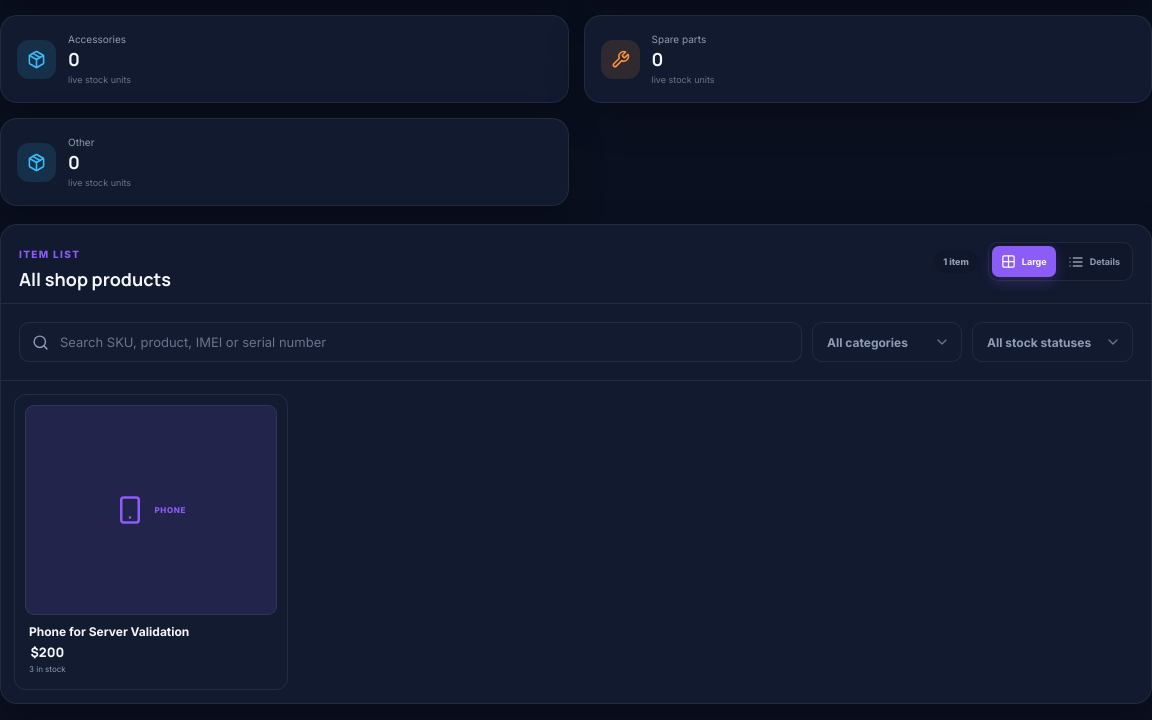
InventoryPage feature integration › displays error inside the dialog and preserves input when server rejects price update
(page scrolled)
Expected: the text "Phone for Server Validation" is shown, [29,624,189,639]
Click the button "Phone Phone for Server Validation $200 3 in stock" at (151, 542), box [14,394,288,690]
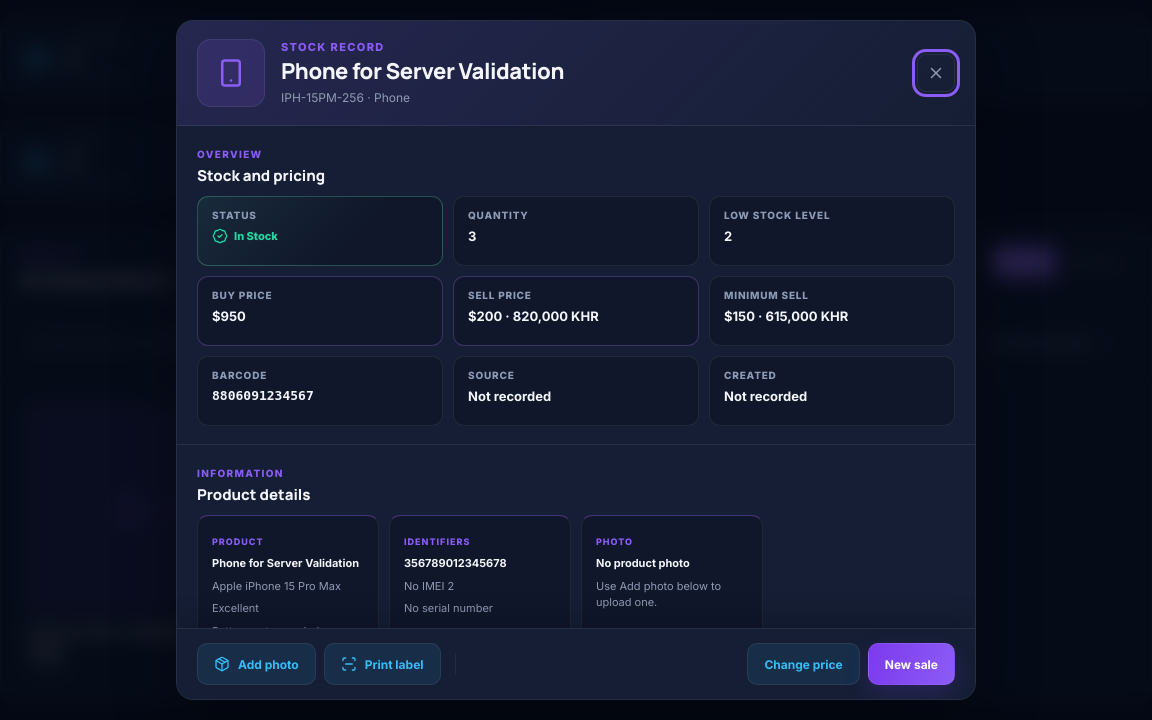
Click the button "Change price" at (804, 664), box [747,643,860,685]
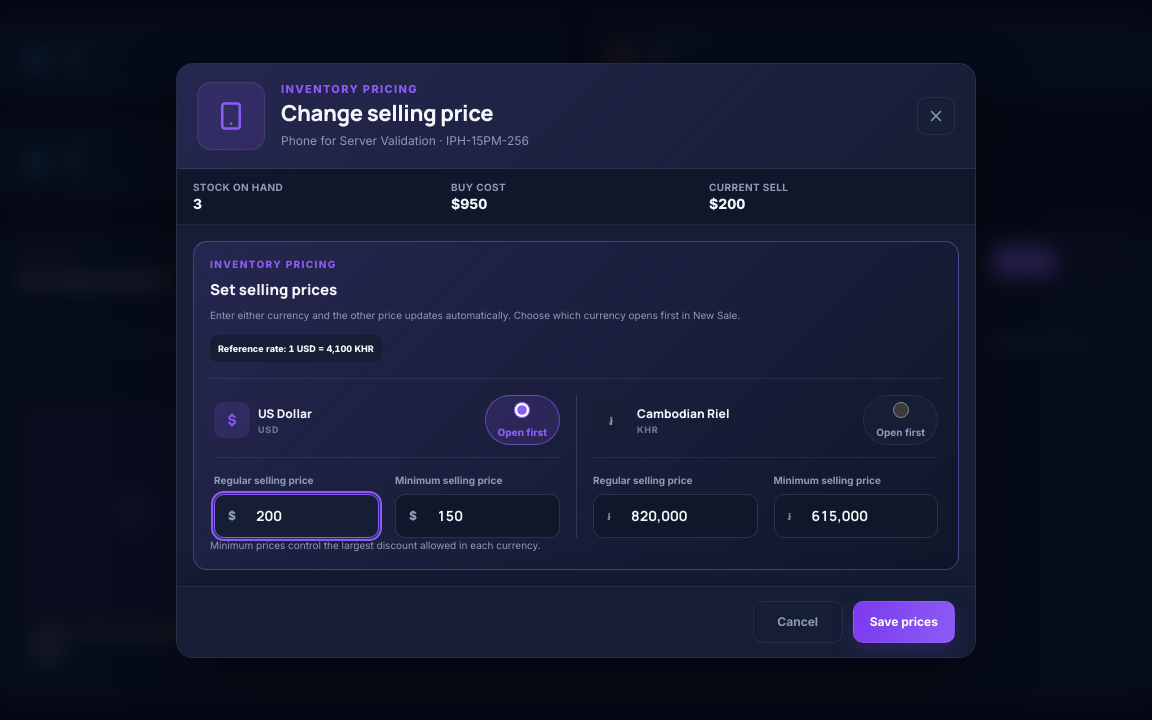
Replace the text in the field named "Regular selling price in US dollars" with "250" at (313, 516), box [248,494,378,536]
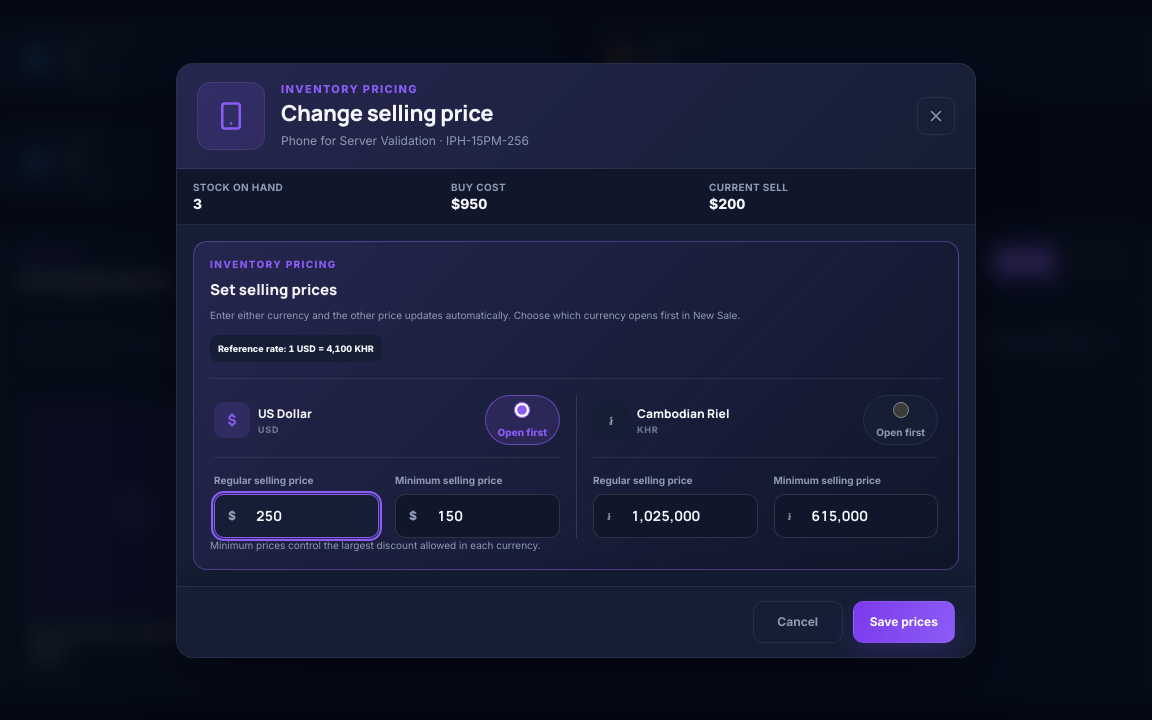
Replace the text in the field named "Minimum selling price in US dollars" with "180" at (494, 516), box [429,494,559,536]
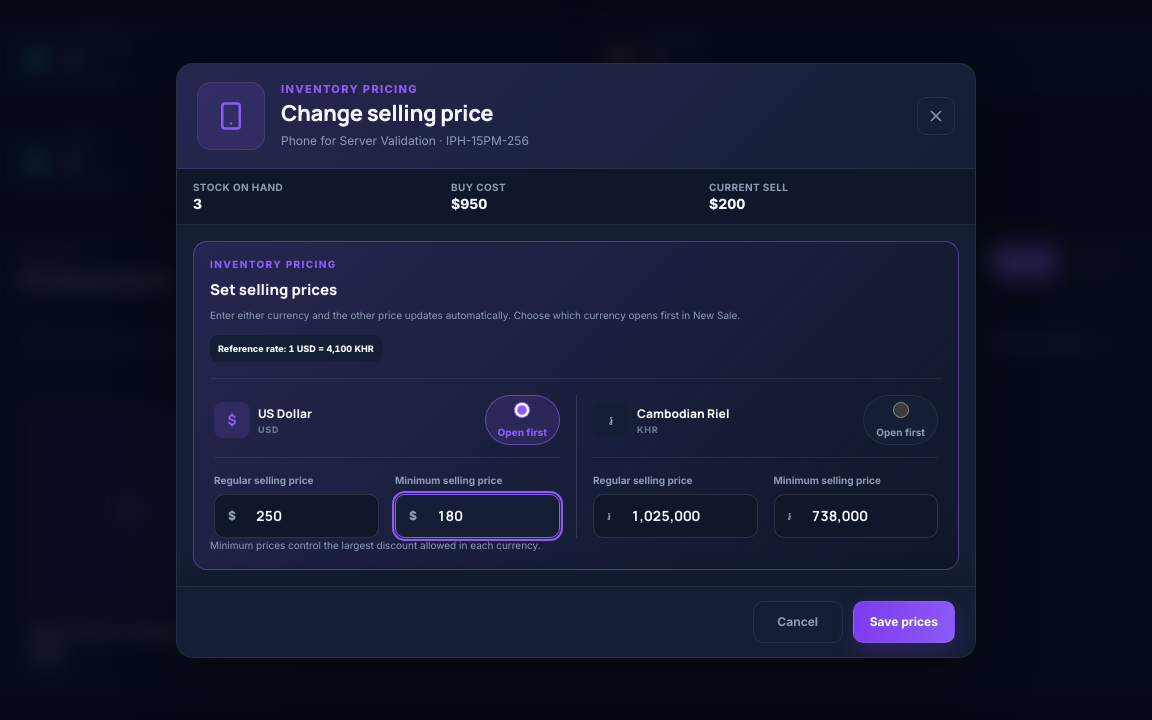
Now the button "Save prices" is enabled
Click the button "Save prices" at (904, 622), box [853,600,955,642]
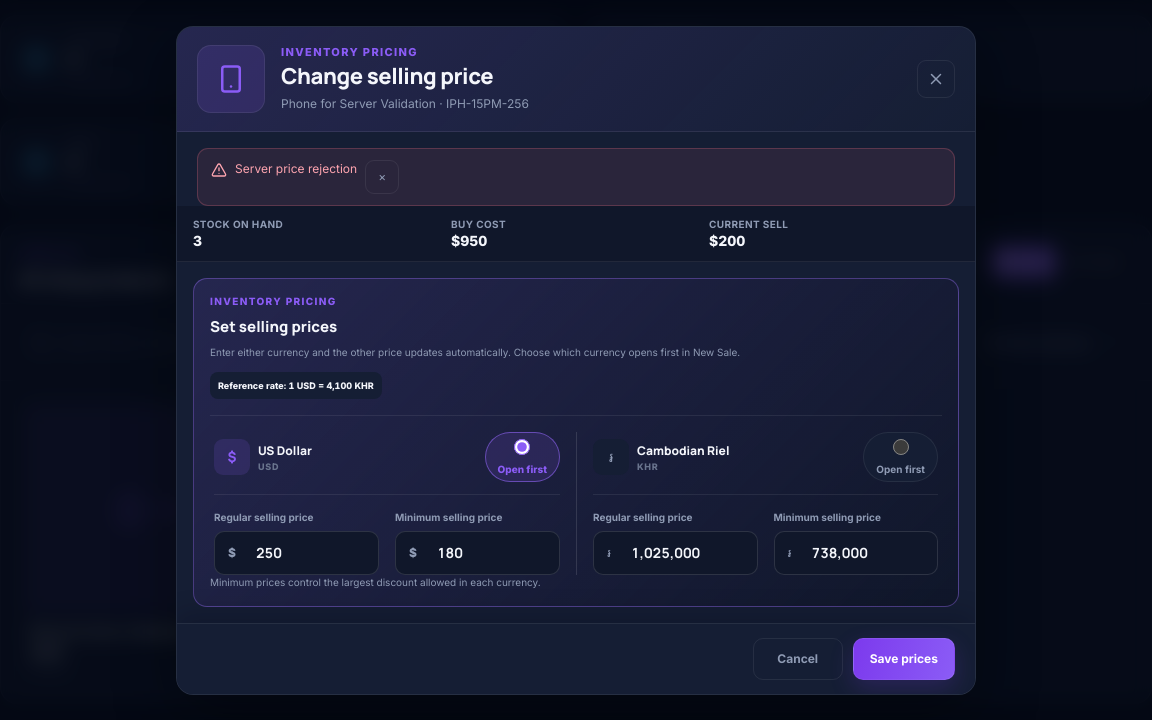
Now the heading "Set selling prices" is shown, box [210,316,337,336]
Now the text "3" is shown, box [193,232,202,248]
Now the message shows "Server price rejection", box [235,160,357,176]
